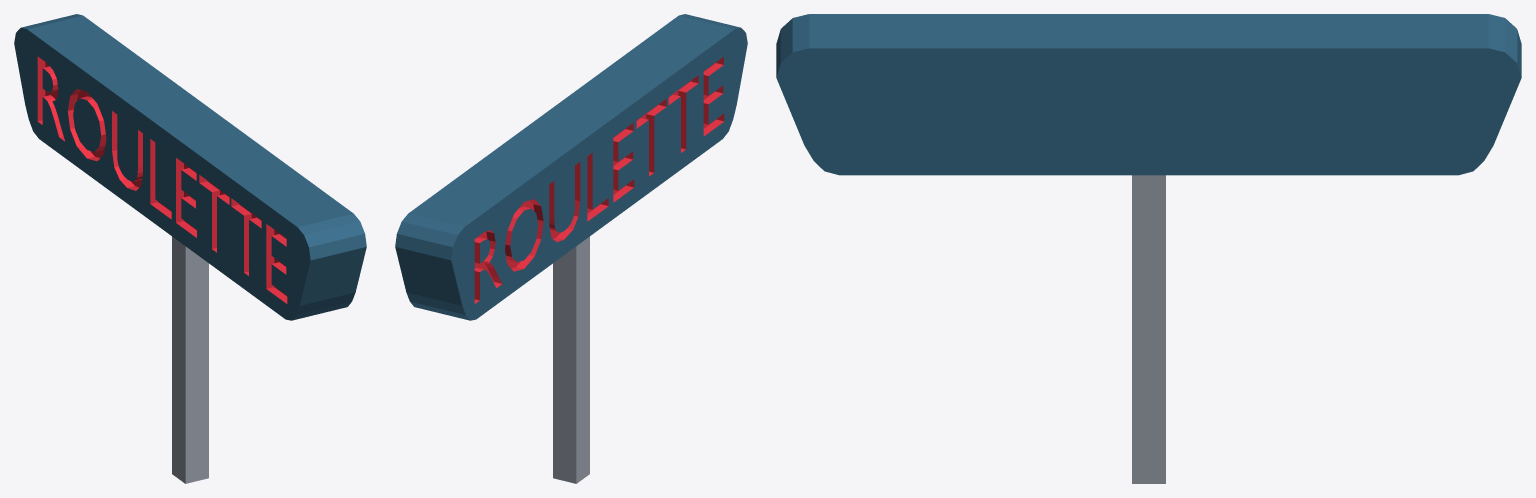
The model's file is Sign_roulette.fbx.
The picture shows the model from 3 angles, left to right: view 1: azimuth 30°, elevation 25°; view 2: azimuth 150°, elevation 25°; view 3: azimuth 270°, elevation 25°; orthographic projection. The views are drawn at different scales.
Parts seen in each view (by area): view 1: Sign_roulette, Cube.007; view 2: Sign_roulette, Cube.007; view 3: Sign_roulette, Cube.007.
Boxes of the visible parts, bbox=[...] form: Sign_roulette: bbox=[14, 14, 366, 320]; Cube.007: bbox=[172, 236, 208, 483]; Sign_roulette: bbox=[395, 14, 747, 320]; Cube.007: bbox=[553, 236, 589, 483]; Sign_roulette: bbox=[776, 14, 1521, 175]; Cube.007: bbox=[1132, 175, 1165, 483].
Size of the model in its own units: 37.58 by 227 by 344.
